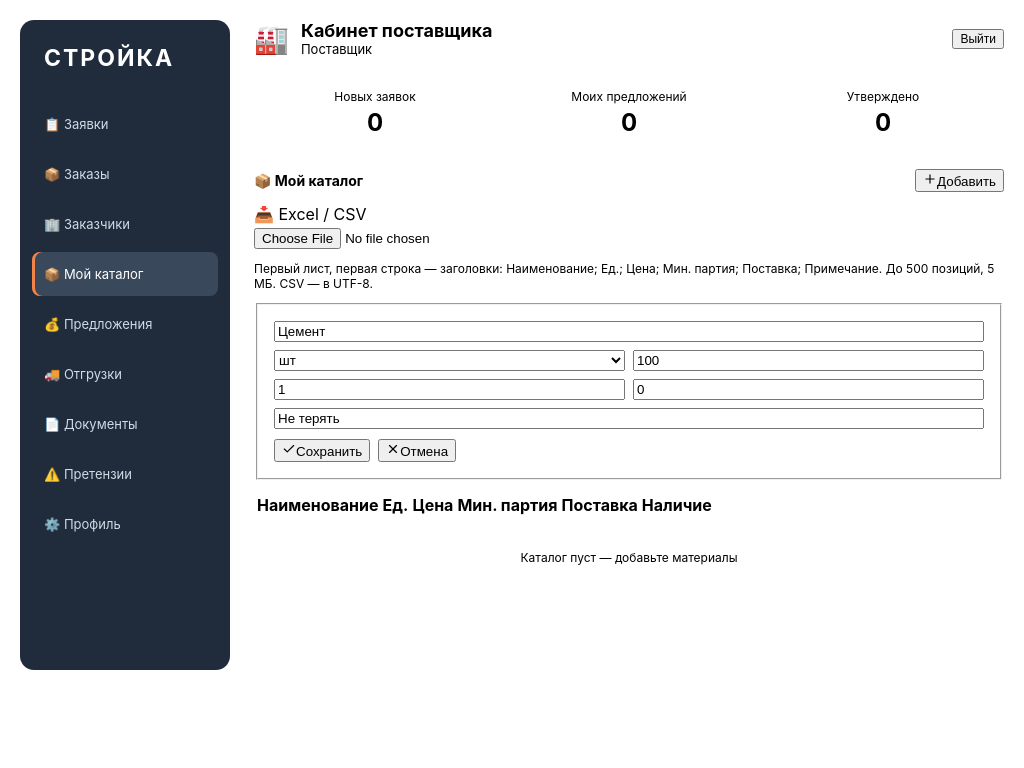
Test case: invalid quantity never reaches the server
Replace the text in the 2nd number field with placeholder "Мин. партия" with "-1" at {"x": 450, "y": 390}, box [274,379,625,400]
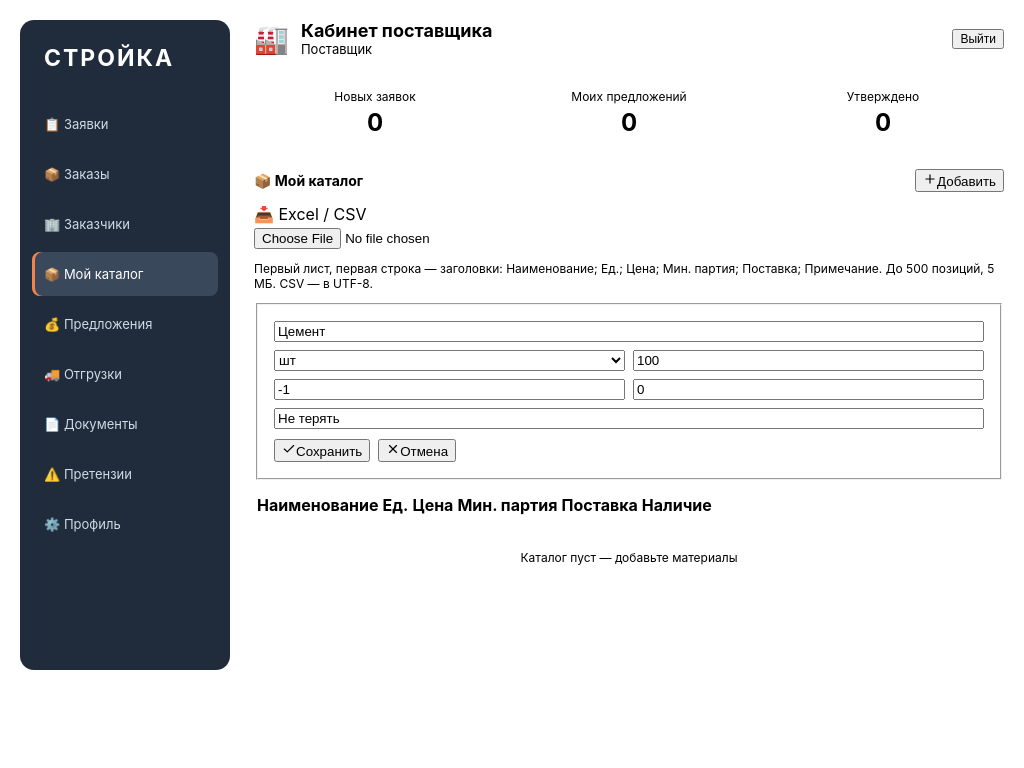
Click the button "Сохранить" at {"x": 322, "y": 450}, box [274,439,370,462]
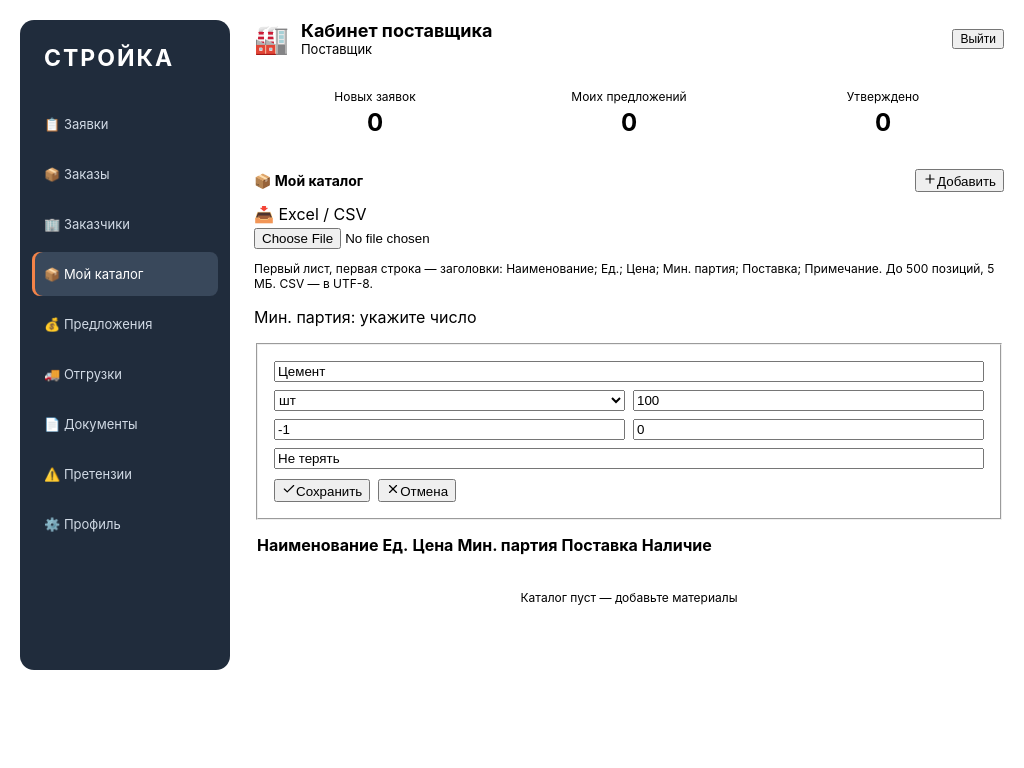
expect the message "Мин. партия: укажите число" is shown: met, box [254,307,476,327]
